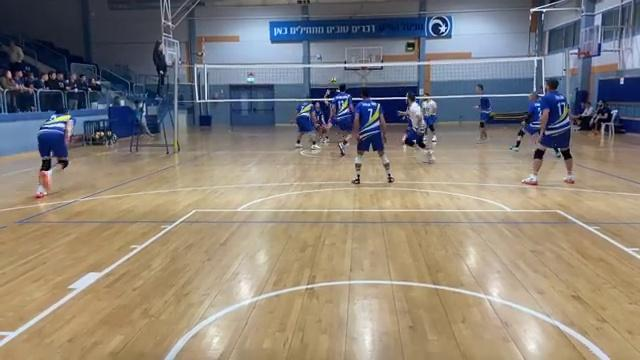ball: (329, 75, 339, 85)
